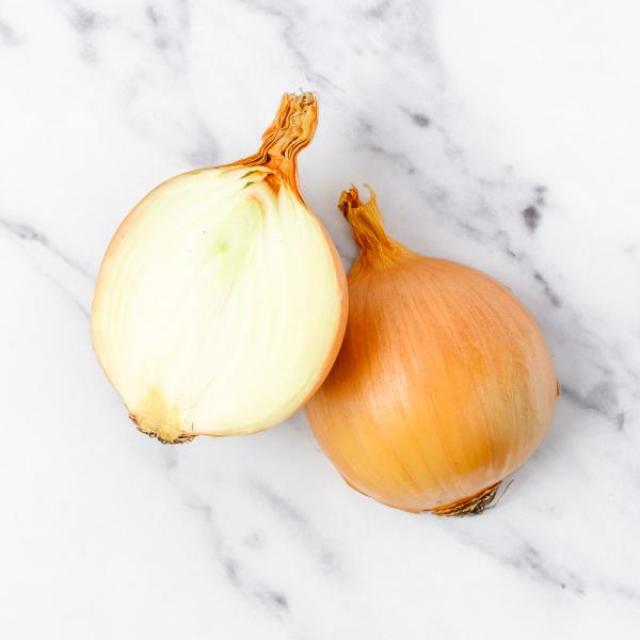Onion: (89, 93, 353, 445), (301, 185, 559, 518)
